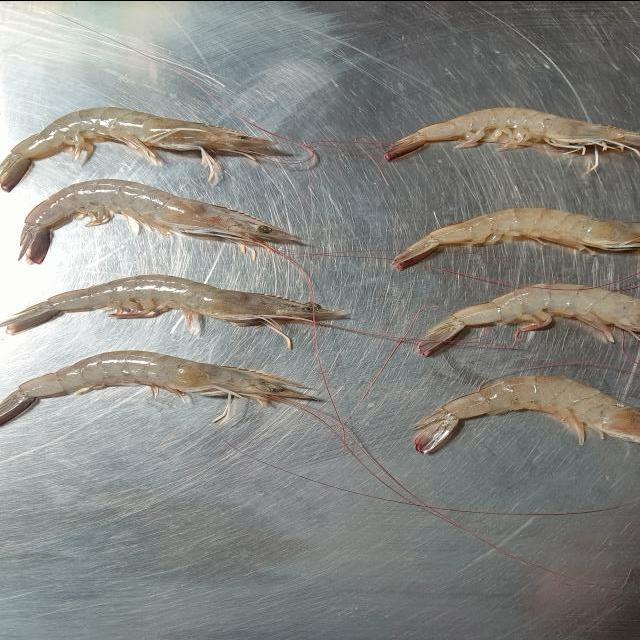shrimp: (0, 106, 286, 190), (20, 179, 301, 262), (0, 350, 312, 422), (4, 274, 345, 334), (414, 375, 638, 452), (418, 282, 640, 356), (394, 208, 638, 269), (392, 108, 635, 151)
